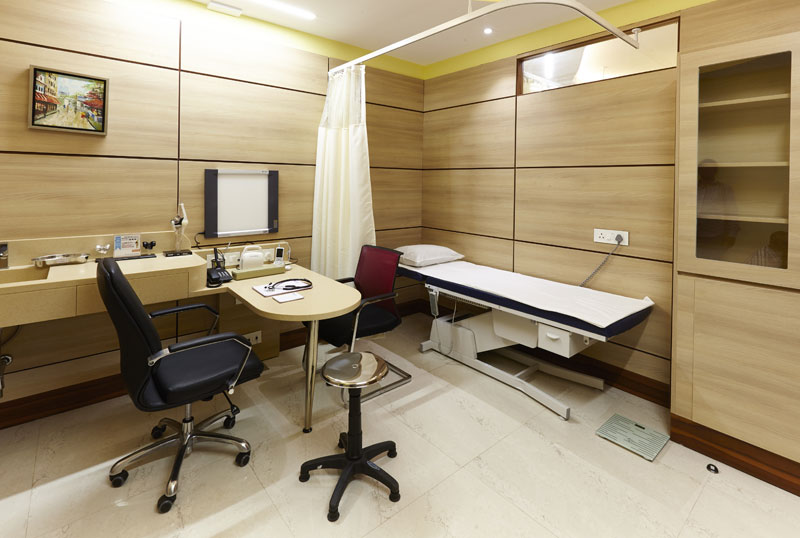cabinet: (685, 47, 799, 295)
chair: (89, 254, 270, 513), (301, 242, 413, 406), (297, 350, 402, 522)
curtain: (307, 63, 378, 282)
exam_table: (393, 241, 655, 421)
sink: (1, 264, 54, 284)
table: (4, 244, 363, 439)
telephone: (207, 264, 234, 285)
